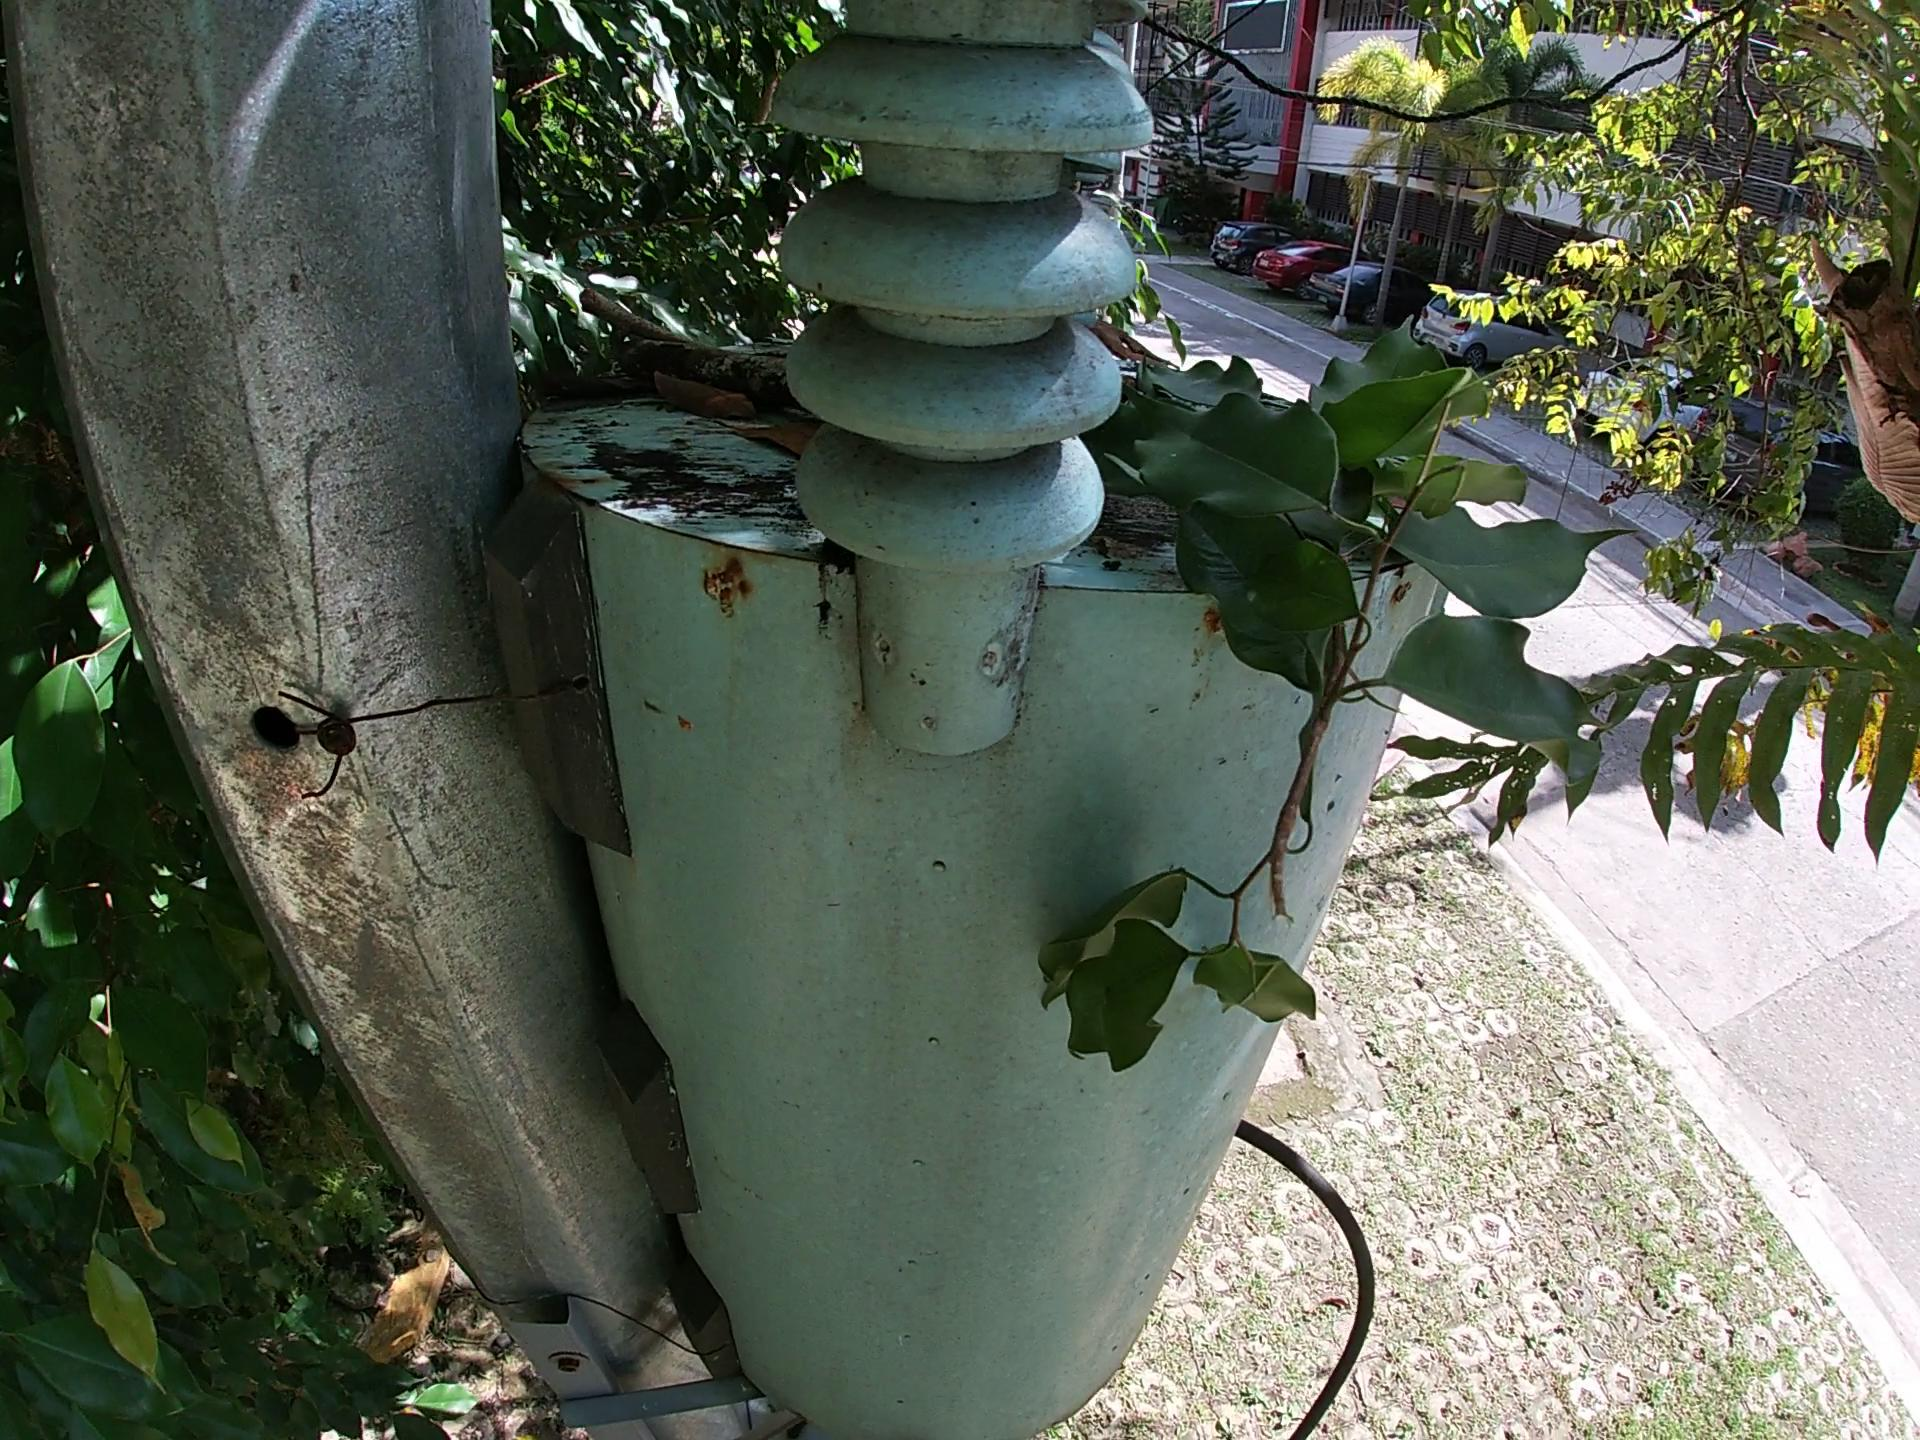branch with leaves: (1031, 307, 1643, 1071)
leaf: (646, 363, 753, 424), (709, 414, 827, 460), (531, 365, 636, 402)
tree branch: (618, 334, 804, 407), (578, 284, 689, 349)
